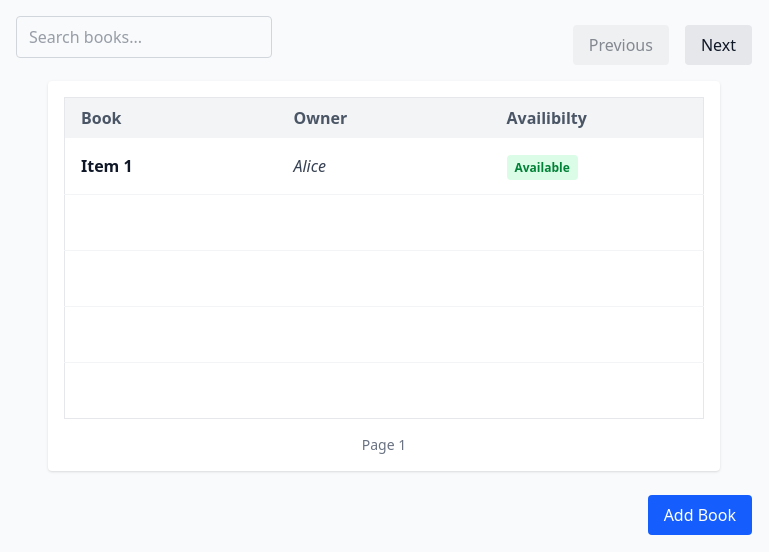
Test: paginates to next page
Expected: the text "Item 1" is shown, [64,138,278,194]
Click the button "Next" at (718, 45), box [685,25,752,65]
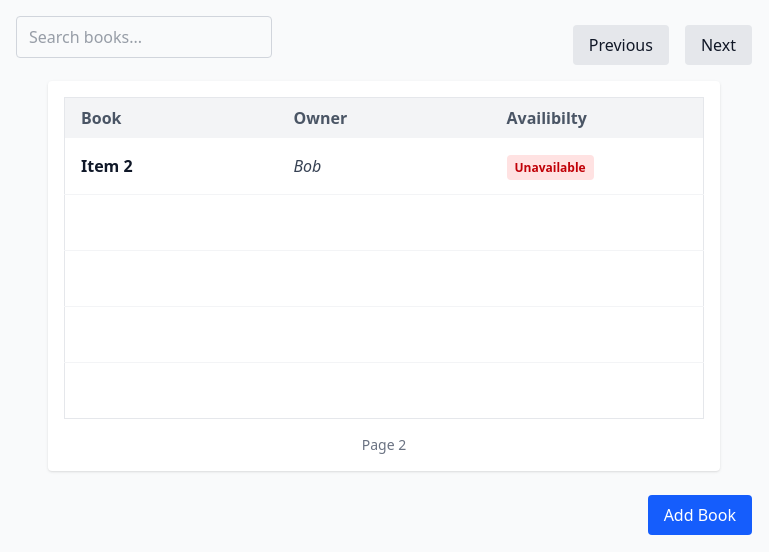
Now the text "Item 2" is shown, box [64,138,278,194]
Now the text "Item 1" is gone
